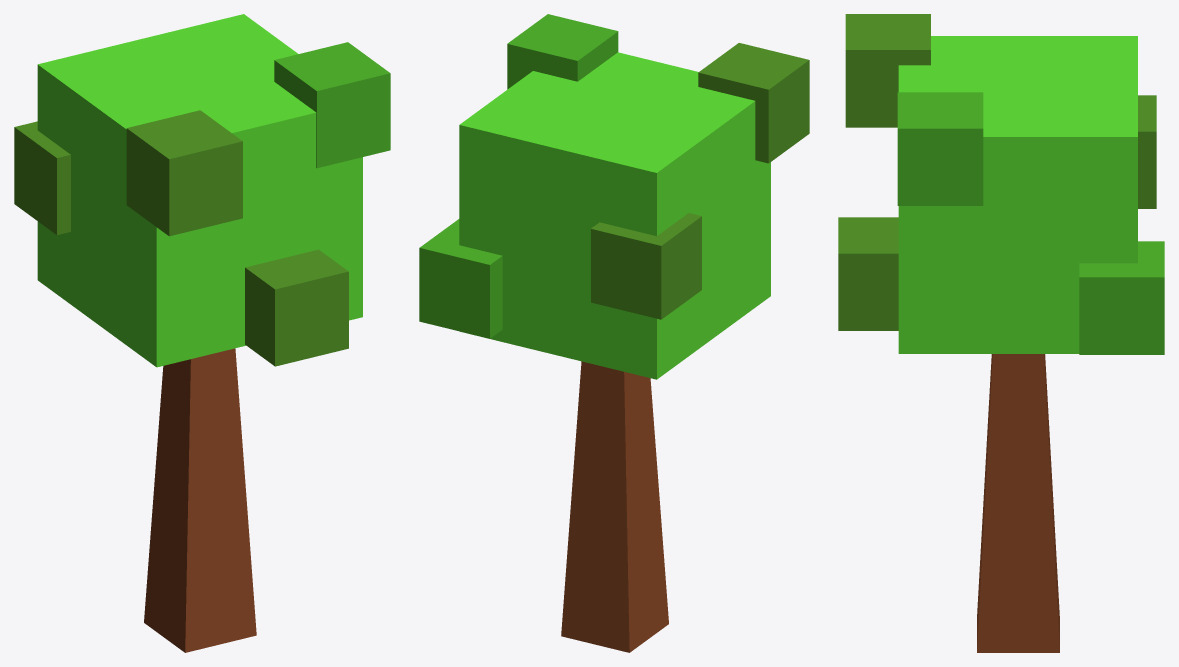
File: Tree.fbx
3 views of the same model, side by side, from view 1: azimuth 30°, elevation 25°; view 2: azimuth 150°, elevation 25°; view 3: azimuth 270°, elevation 25° (orthographic). The views are drawn at different scales.
Parts seen in each view (by area): view 1: Cube; view 2: Cube; view 3: Cube.
Part boxes in pixels (<box>): Cube: <box>14,14,390,652</box>; Cube: <box>419,14,809,652</box>; Cube: <box>838,14,1164,652</box>.
Size of the model in its own units: 353 by 770 by 399.
